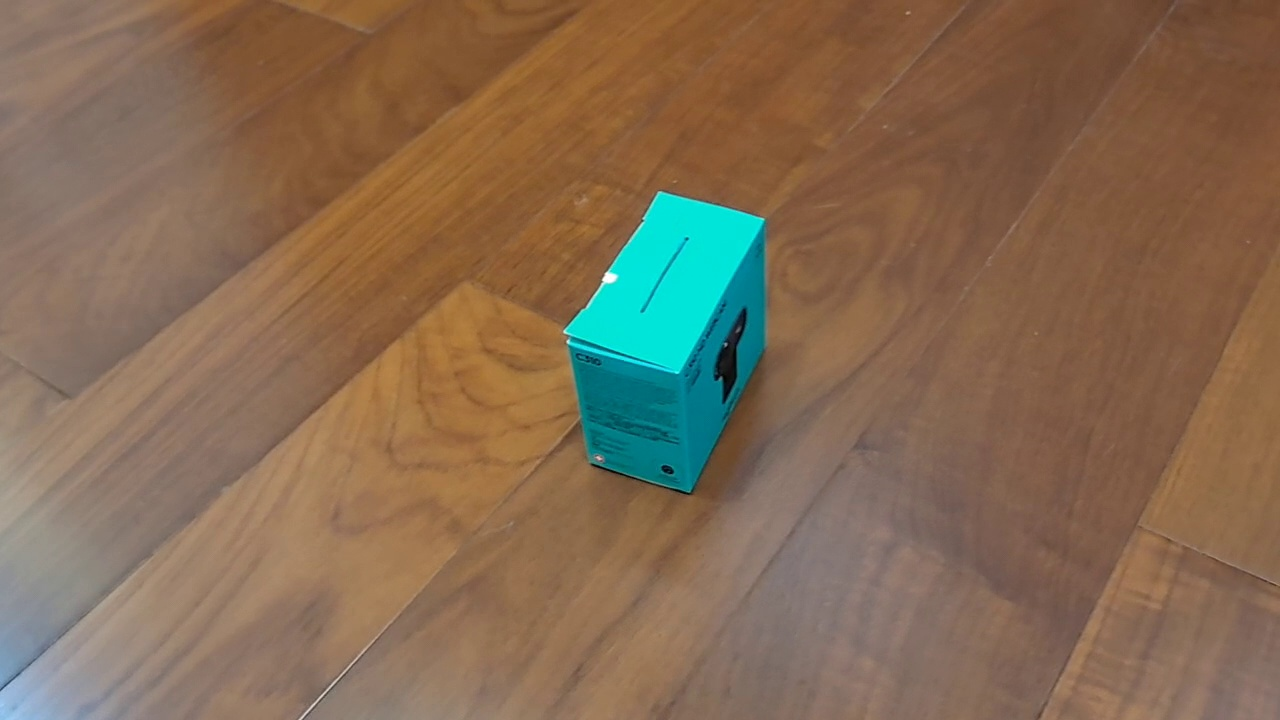webcam: (563, 191, 769, 495)
